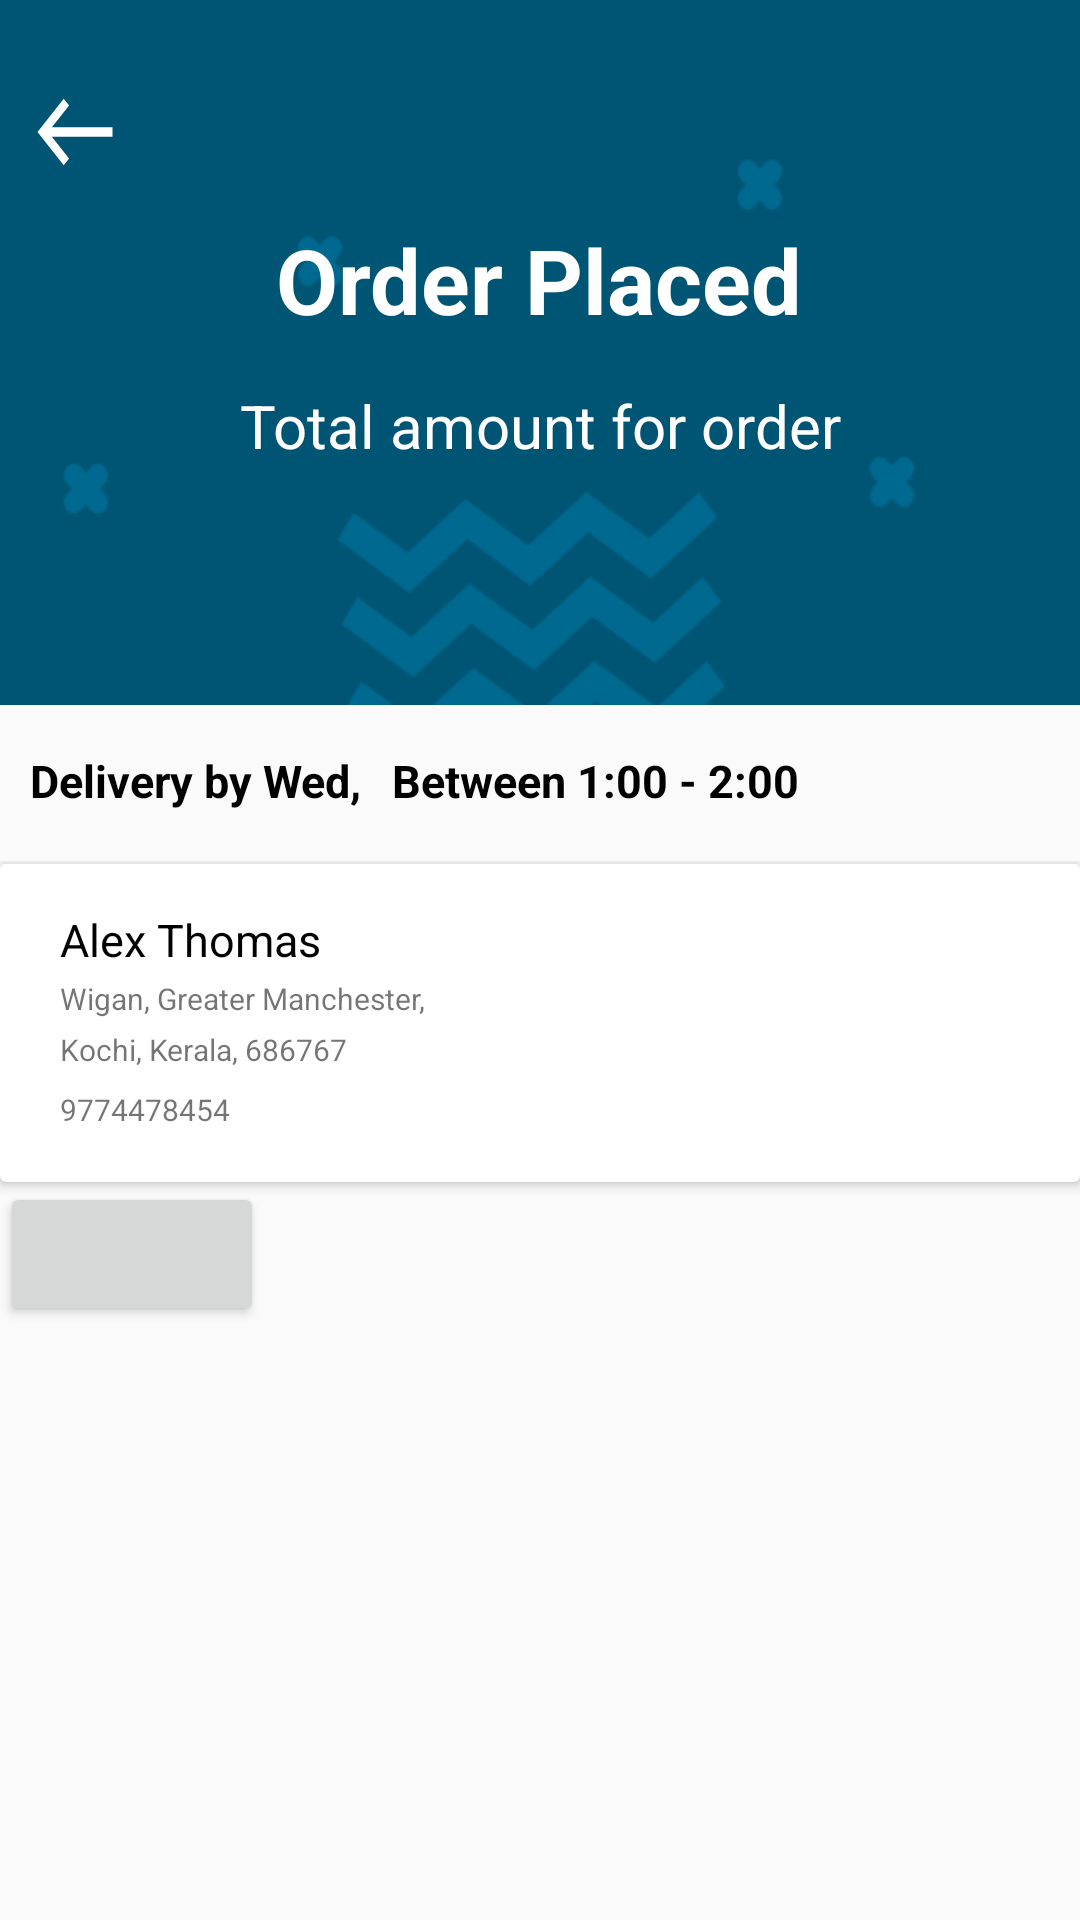

Screen size 1080 × 1920. Icon name, then its box in pixels as [x1, y1, x2, y2]:
west: [37, 99, 113, 165]
